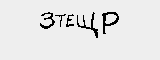Е: (63, 12, 74, 31)
З: (37, 10, 56, 32)
Р: (100, 10, 120, 36)
Т: (54, 10, 66, 30)
Щ: (74, 11, 95, 39)
